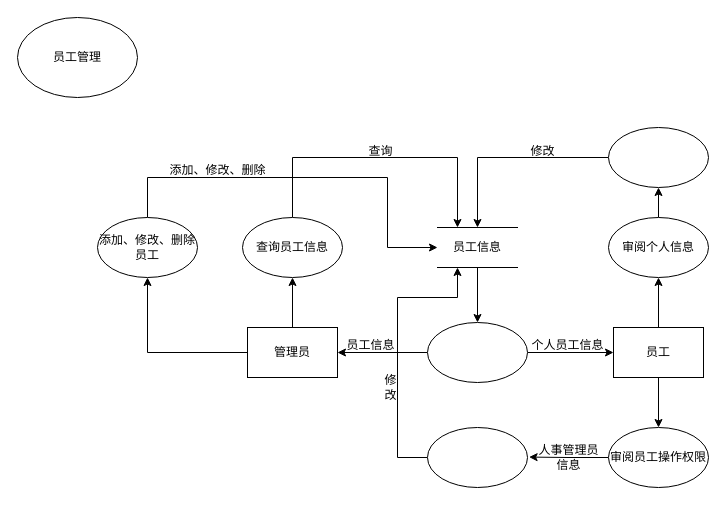
This 726x505 diagram has some shape labels left out. Each missing label, with the box of its shape:
修改个人信息: (608, 126, 708, 188)
修改所有员工信息: (426, 426, 528, 488)
导出信息: (426, 322, 528, 382)
